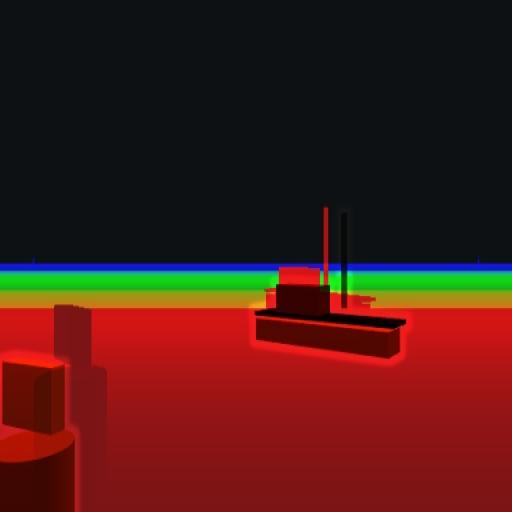vessel: (255, 223, 403, 363)
